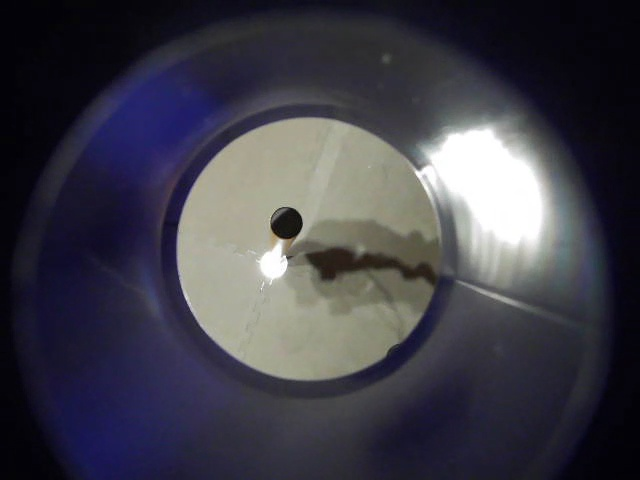tip: (262, 201, 313, 252)
